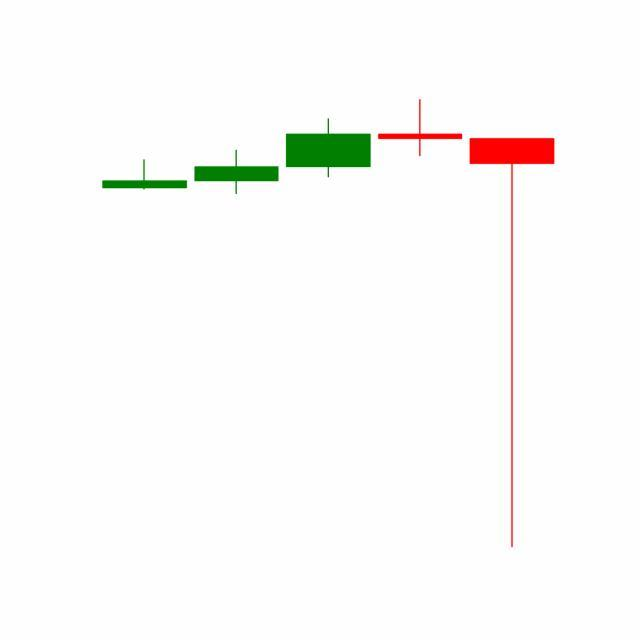Spinning Top: (374, 98, 468, 158)
